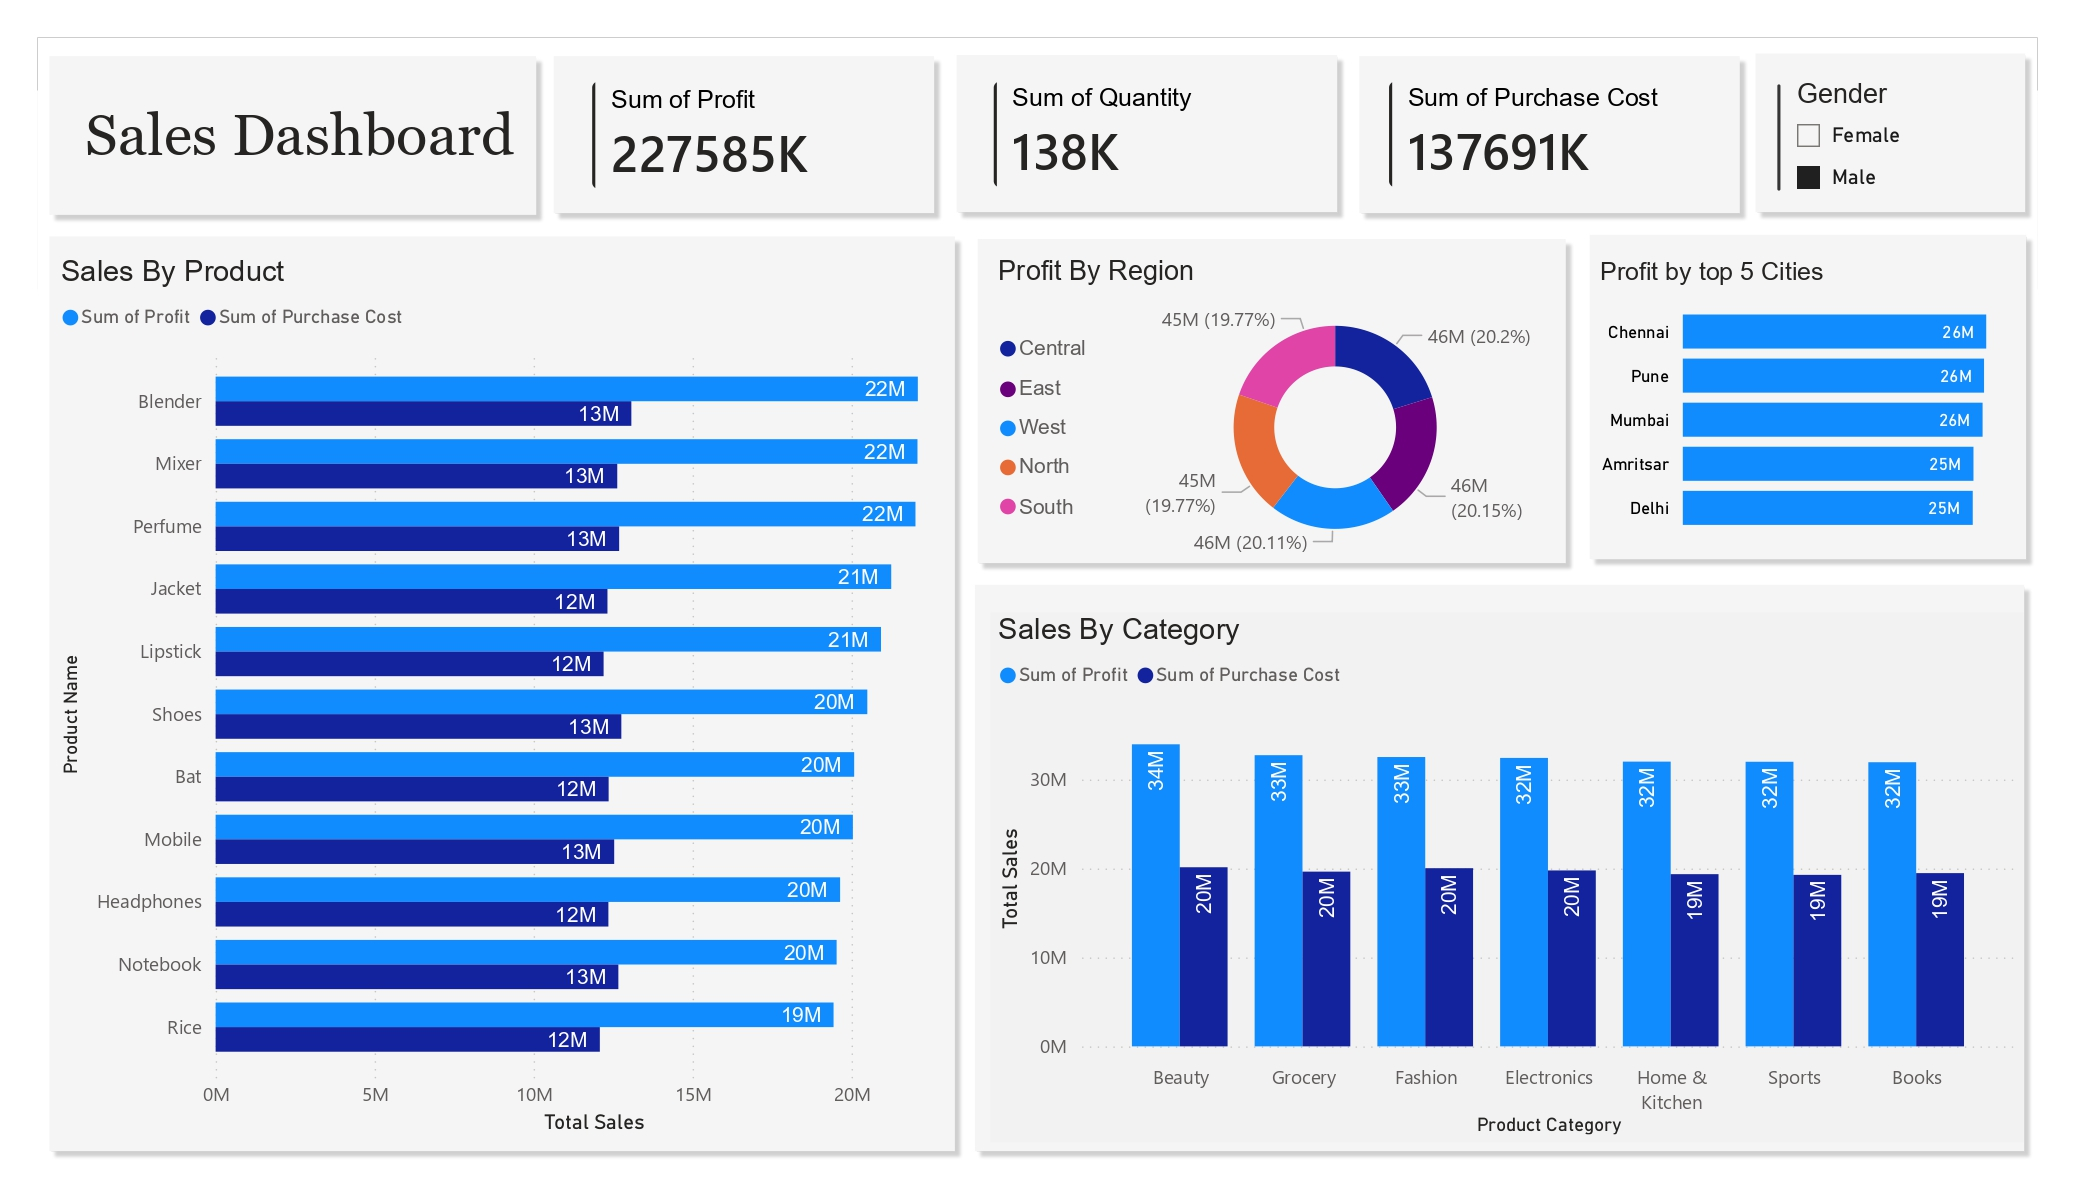

This screenshot's page, from the dashboard's own definition file:
{"tool":"powerbi","page":{"name":"Page 1","canvas":[1280,720],"ordinal":0},"visuals":[{"type":"shape","box":[581,4,258.2,115.5],"z":0,"group":"g3"},{"type":"group","id":"g1","title":"Group 1","box":[0,4.8,330,116],"z":0},{"type":"shape","box":[0,4.8,325.9,116],"z":0,"group":"g1"},{"type":"shape","box":[839,5,258.2,115.5],"z":0,"group":"g4"},{"type":"shape","box":[323,5.3,258.2,115.5],"z":0,"group":"g2"},{"type":"cardVisual","fields":{"Data":["Sum(Ecommerce Sales Data.Quantity)"]},"box":[594.9,10.7,259.1,101.8],"z":1000,"group":"g3"},{"type":"cardVisual","fields":{"Data":["Sum(Ecommerce Sales Data.Profit)"]},"box":[338,11.2,260,102.7],"z":1000,"group":"g2"},{"type":"cardVisual","fields":{"Data":["Sum(Ecommerce Sales Data.Purchase Cost)"]},"box":[848.1,11.4,259.1,101.8],"z":1000,"group":"g4"},{"type":"textbox","box":[5.5,35.9,324.5,72.3],"z":1000,"group":"g1"},{"type":"group","id":"g2","title":"Sum of profif","box":[323,5.3,275,115],"z":2000},{"type":"group","id":"g3","title":"Sum of profif","box":[581,4,273,115],"z":3000},{"type":"group","id":"g4","title":"Sum of profif","box":[839,5,268,115],"z":4000},{"type":"shape","box":[594,122,391,222],"z":5000},{"type":"donutChart","title":"Profit By Region","fields":{"Y":["Sum(Ecommerce Sales Data.Profit)"],"Category":["Ecommerce Sales Data.Region"]},"box":[610,139,375,201],"z":6000},{"type":"shape","box":[593.3,343.3,685.6,376.7],"z":7000},{"type":"clusteredColumnChart","title":"Sales By Category","fields":{"Category":["Ecommerce Sales Data.Product Category"],"Y":["Sum(Ecommerce Sales Data.Profit)","Sum(Ecommerce Sales Data.Purchase Cost)"]},"box":[610,368,661,339],"z":8000},{"type":"shape","box":[0,120,594,600],"z":9000},{"type":"clusteredBarChart","title":"Sales By Product","fields":{"Category":["Ecommerce Sales Data.Product Name"],"Y":["Sum(Ecommerce Sales Data.Profit)","Sum(Ecommerce Sales Data.Purchase Cost)"]},"box":[10,139,606,568],"z":10000},{"type":"shape","box":[985.6,118.9,294.4,222.2],"z":11000},{"type":"barChart","title":"Profit by top 5 Cities","fields":{"Category":["Ecommerce Sales Data.City"],"Y":["Sum(Ecommerce Sales Data.Profit)"]},"box":[995,139,285,205],"z":12000},{"type":"group","id":"g5","title":"Group 2","box":[1061.8,3,216.9,115.6],"z":12500},{"type":"shape","box":[1092,3,186.7,115.6],"z":12500,"group":"g5"},{"type":"shape","box":[1061.8,30,104.5,68.2],"z":12750,"group":"g5"},{"type":"slicer","fields":{"Values":["Ecommerce Sales Data.Gender"]},"box":[1112.7,20.9,159.1,88.2],"z":13000}]}

Visuals, with their boxes on the page's 1280x720 design canvas (x1, y1, x2, y2). These are canvas units, not pixel positions in the 2075x1200 screenshot, which may show the page scaled, cropped or inside an application window:
shape: 581/4/839/120
"Group 1" group: 0/5/330/121
shape: 0/5/326/121
shape: 839/5/1097/120
shape: 323/5/581/121
cardVisual - Sum(Ecommerce Sales Data.Quantity): 595/11/854/112
cardVisual - Sum(Ecommerce Sales Data.Profit): 338/11/598/114
cardVisual - Sum(Ecommerce Sales Data.Purchase Cost): 848/11/1107/113
textbox: 6/36/330/108
"Sum of profif" group: 323/5/598/120
"Sum of profif" group: 581/4/854/119
"Sum of profif" group: 839/5/1107/120
shape: 594/122/985/344
"Profit By Region" donutChart: 610/139/985/340
shape: 593/343/1279/720
"Sales By Category" clusteredColumnChart: 610/368/1271/707
shape: 0/120/594/720
"Sales By Product" clusteredBarChart: 10/139/616/707
shape: 986/119/1280/341
"Profit by top 5 Cities" barChart: 995/139/1280/344
"Group 2" group: 1062/3/1279/119
shape: 1092/3/1279/119
shape: 1062/30/1166/98
slicer - Ecommerce Sales Data.Gender: 1113/21/1272/109
